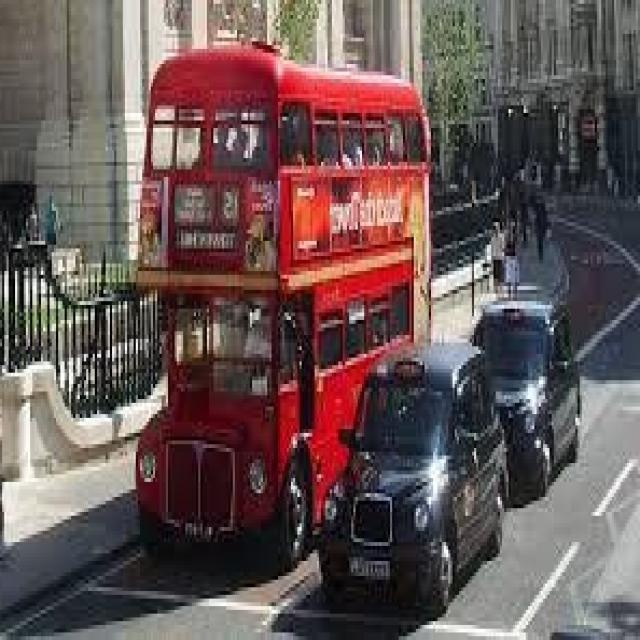bus: (99, 22, 457, 566)
car: (302, 337, 518, 611), (462, 274, 605, 495)
